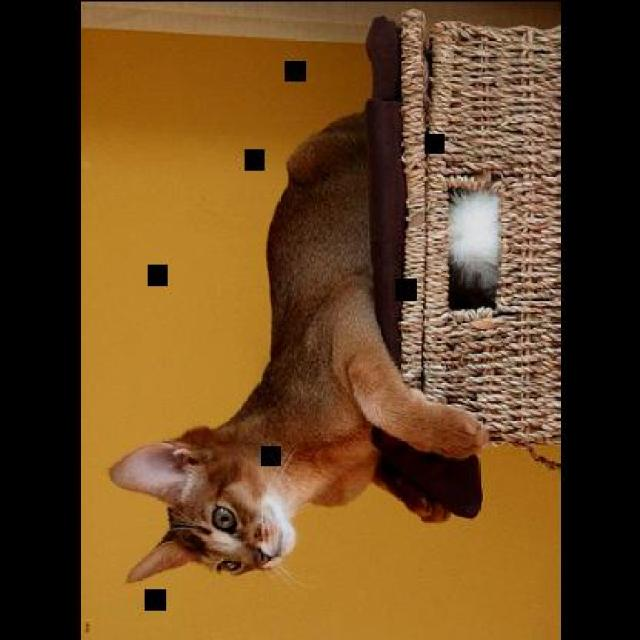unauthorized: (108, 105, 500, 584)
